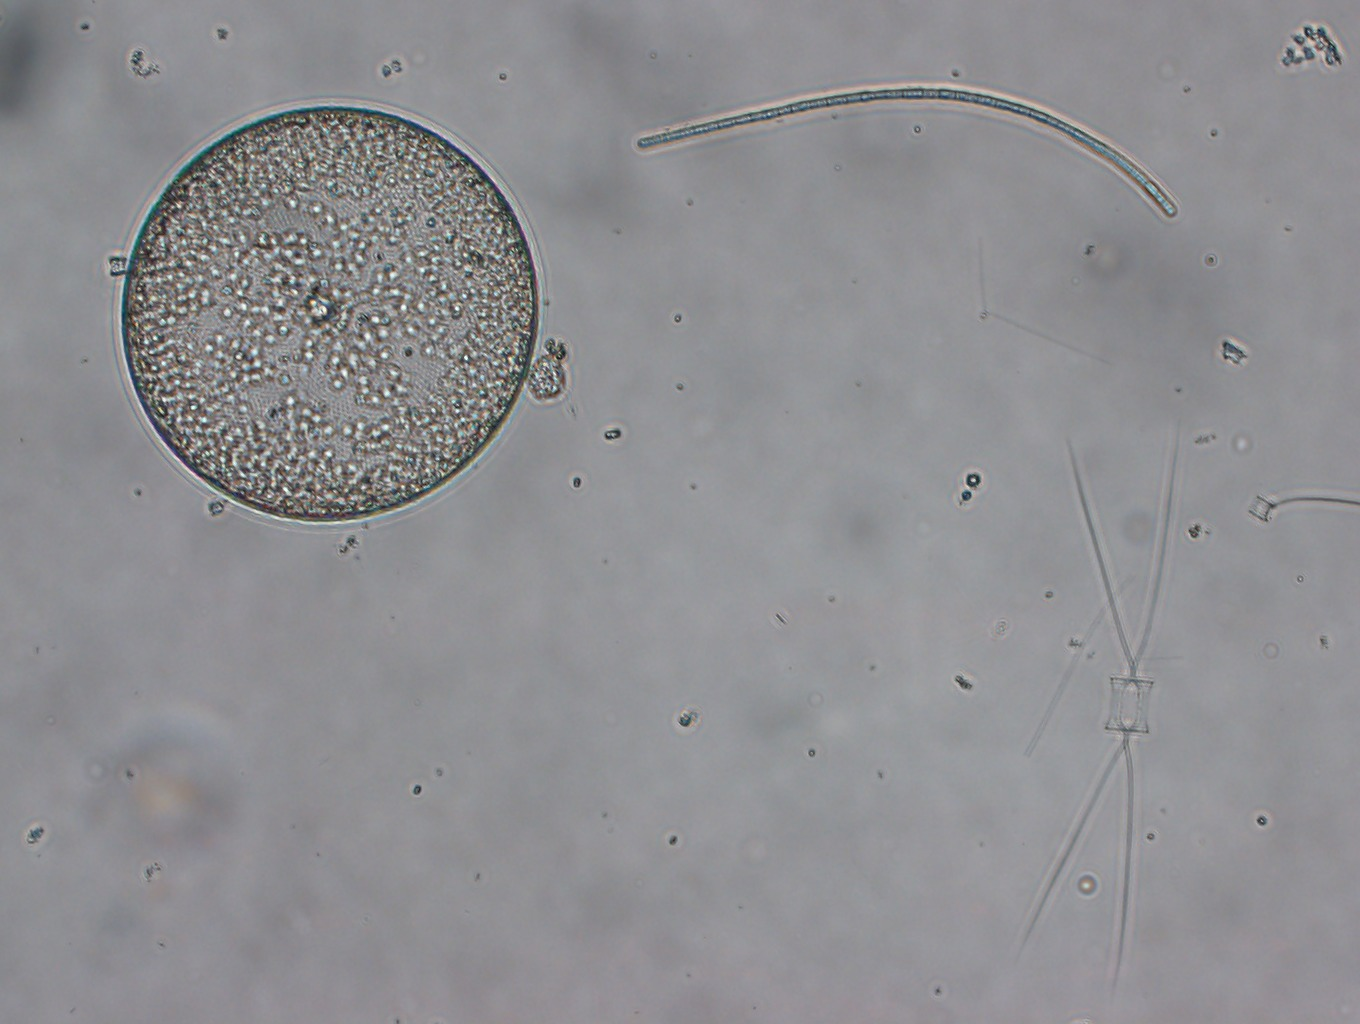chaetoceros: (1012, 436, 1179, 992)
coscinodiscus: (118, 103, 542, 523)
